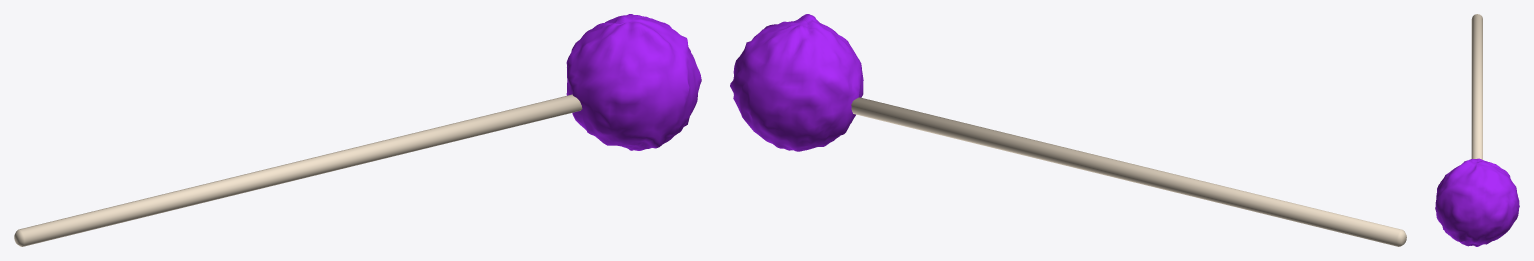
Rendered from Mallet.dae.
The picture shows the model from 3 angles, left to right: view 1: azimuth 30°, elevation 25°; view 2: azimuth 150°, elevation 25°; view 3: azimuth 270°, elevation 25°; orthographic projection. The views are drawn at different scales.
Visible parts, largest first — view 1: Sphere_ncl1_1; view 2: Sphere_ncl1_1; view 3: Sphere_ncl1_1.
Part boxes in pixels (x1,y1,x2,y2): Sphere_ncl1_1: (14, 14, 701, 246); Sphere_ncl1_1: (730, 14, 1406, 246); Sphere_ncl1_1: (1435, 14, 1519, 246).
Size of the model in its own units: 501 by 93.5 by 86.61.
1 material, 1 textured.
